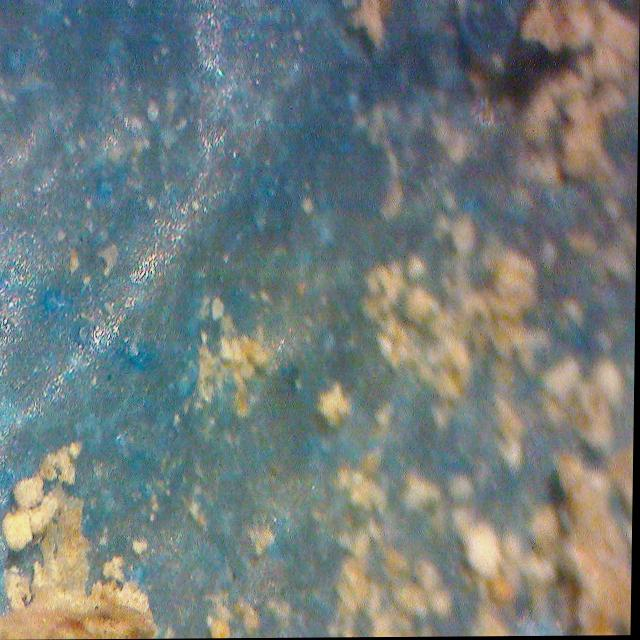microplastic: (0, 0, 625, 638)
